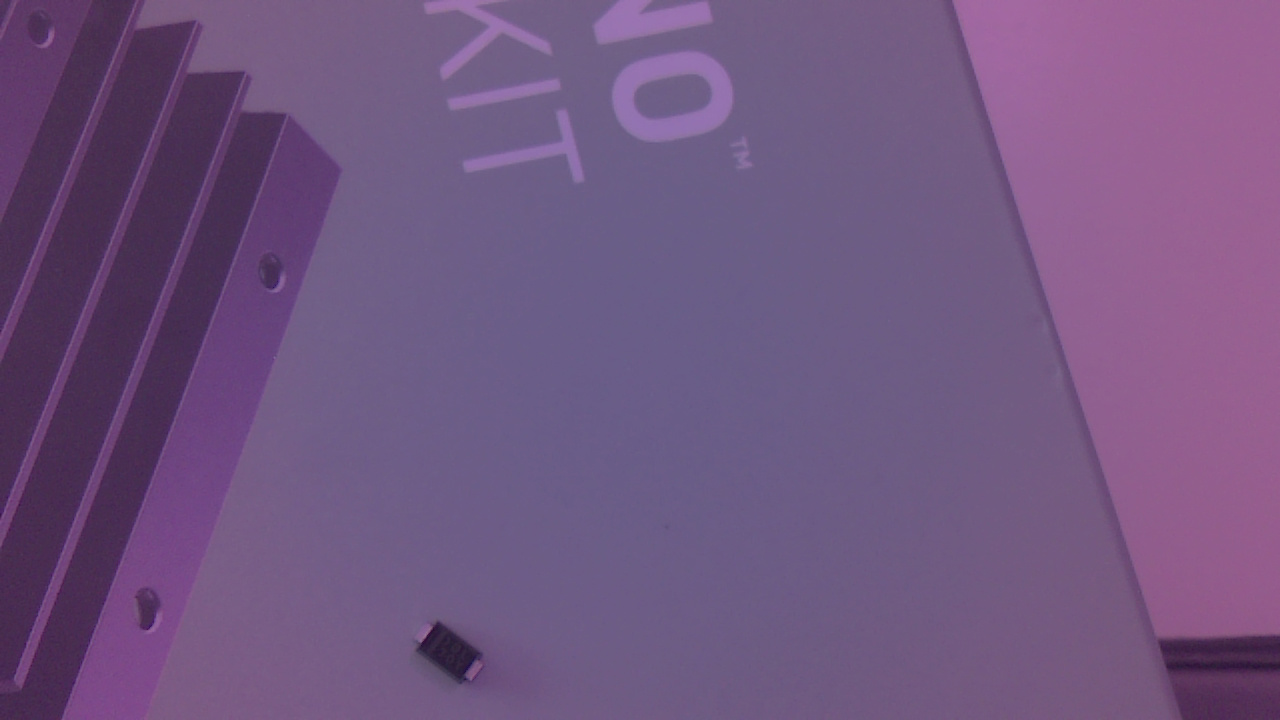Diode: (418, 625, 494, 690)
